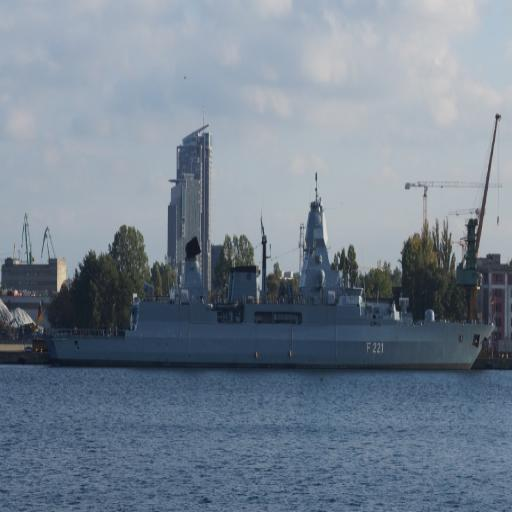Fragata: (43, 158, 497, 370)
